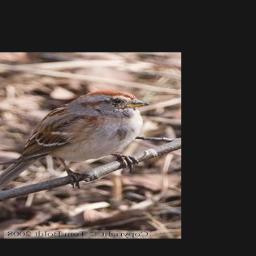Sparrow: (0, 87, 151, 205)
